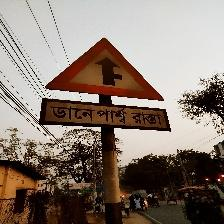Side-road-right: (43, 38, 169, 129)
